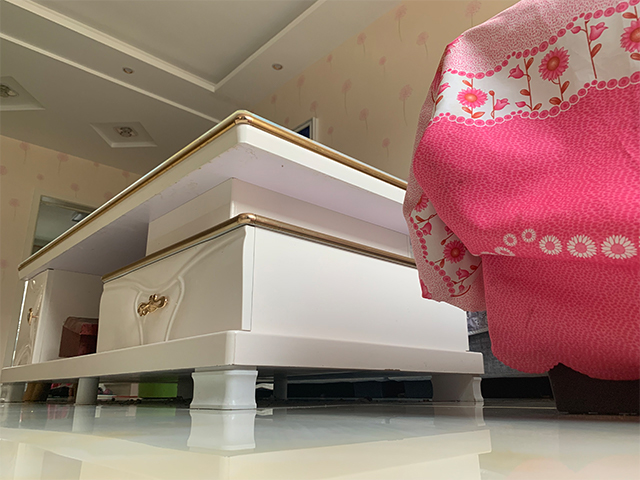table: (4, 109, 487, 410)
